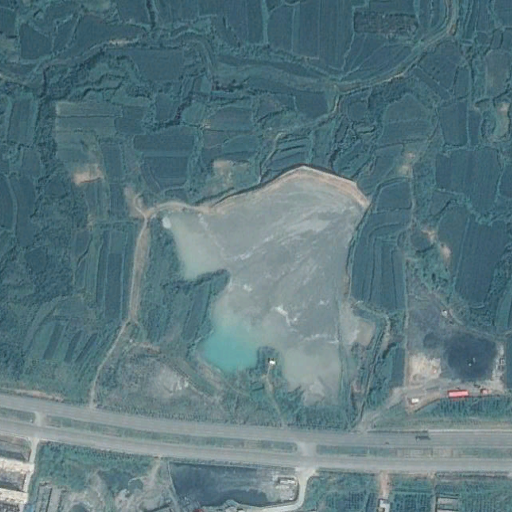tp: (162, 166, 375, 409)
